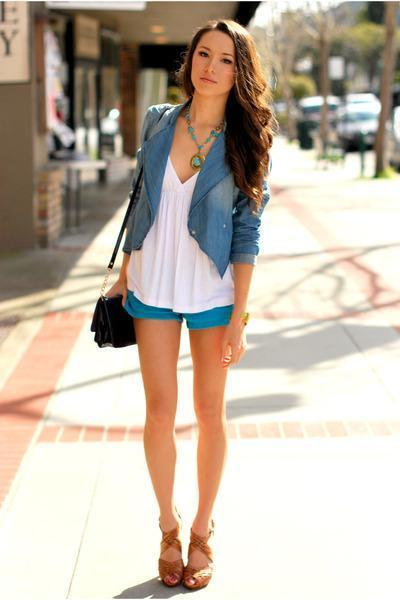bag: (91, 180, 149, 347)
jacket: (122, 108, 260, 329)
shirt: (108, 156, 227, 312)
shoe: (158, 528, 212, 587)
